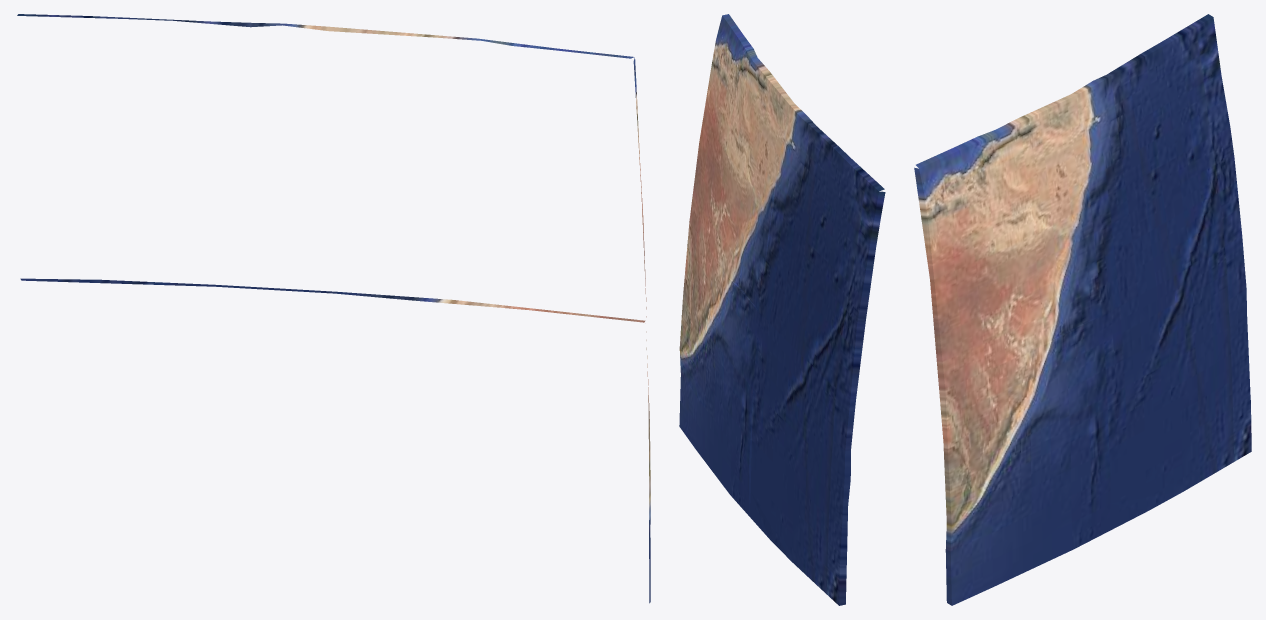
3 renders of one model, left to right at view 1: azimuth 30°, elevation 25°; view 2: azimuth 150°, elevation 25°; view 3: azimuth 270°, elevation 25°, orthographic. The views are drawn at different scales.
Size of the model in its own units: 1054776 by 1253926 by 897143.
1 material, 1 textured.
